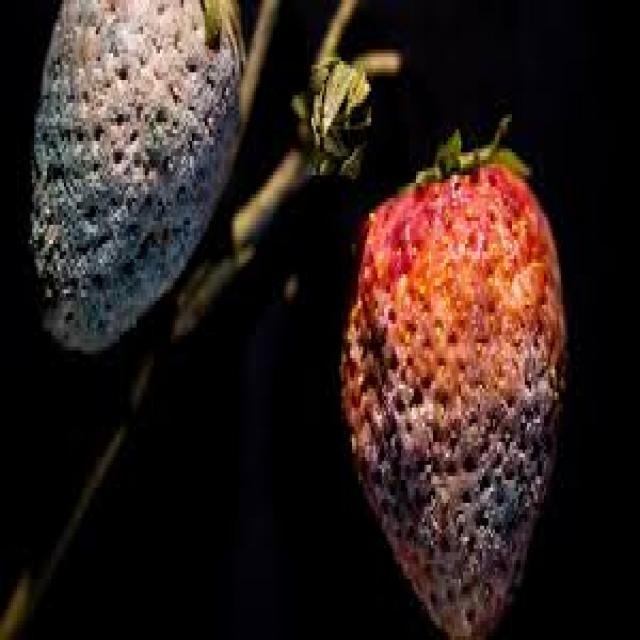organic waste: (335, 107, 567, 636), (28, 0, 241, 347), (297, 42, 371, 179)
